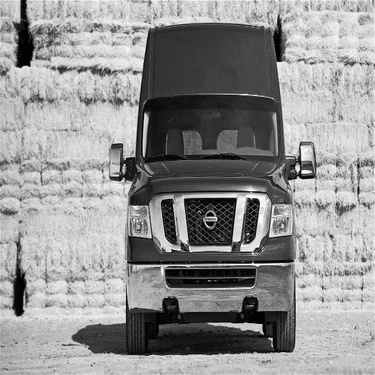car: (94, 7, 324, 357)
